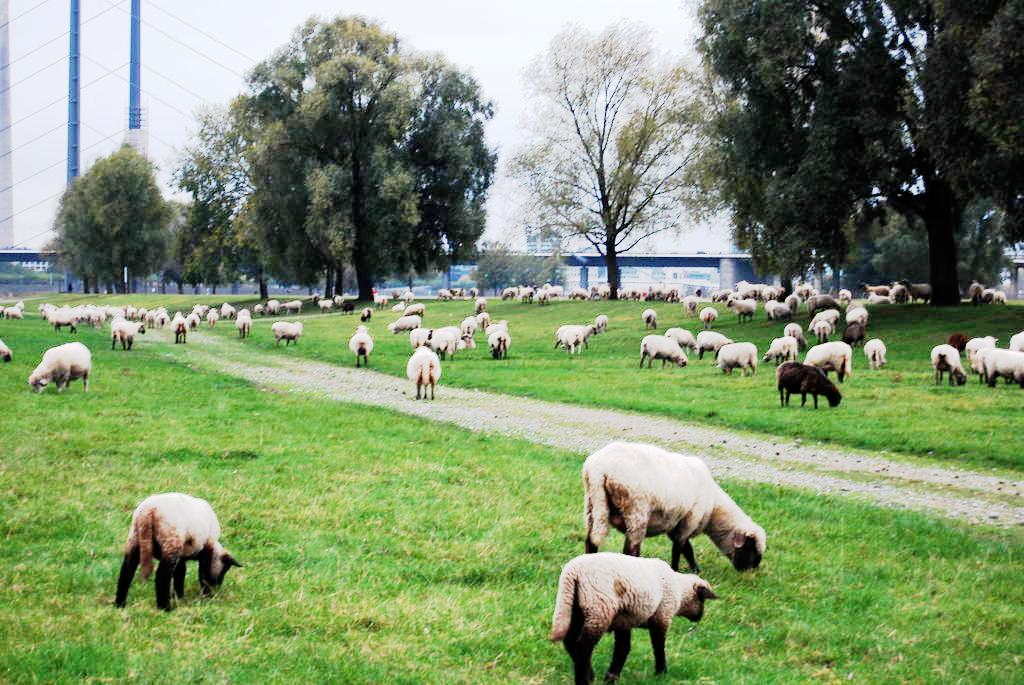Sheep: (576, 442, 768, 572), (545, 555, 715, 682), (112, 493, 243, 611), (28, 341, 91, 394), (804, 341, 854, 385), (407, 344, 442, 401), (978, 347, 1024, 388), (640, 335, 688, 369), (931, 344, 967, 387), (716, 341, 758, 377), (110, 318, 146, 351), (763, 335, 798, 367), (557, 325, 590, 357), (696, 331, 732, 360), (971, 342, 997, 381), (348, 328, 373, 366), (433, 326, 461, 358), (271, 321, 303, 347), (864, 339, 887, 370), (811, 309, 840, 333), (489, 330, 509, 360), (171, 314, 188, 345), (769, 301, 792, 321), (73, 307, 95, 327), (236, 314, 251, 339), (845, 300, 867, 315), (90, 310, 107, 329), (404, 313, 423, 329), (683, 297, 699, 316), (784, 323, 804, 338), (785, 293, 802, 309), (476, 312, 491, 330), (186, 313, 200, 331), (711, 290, 730, 303), (724, 293, 740, 308), (461, 319, 477, 334), (220, 308, 234, 320), (111, 314, 125, 326), (136, 308, 147, 322), (221, 303, 234, 313), (334, 295, 343, 306)
